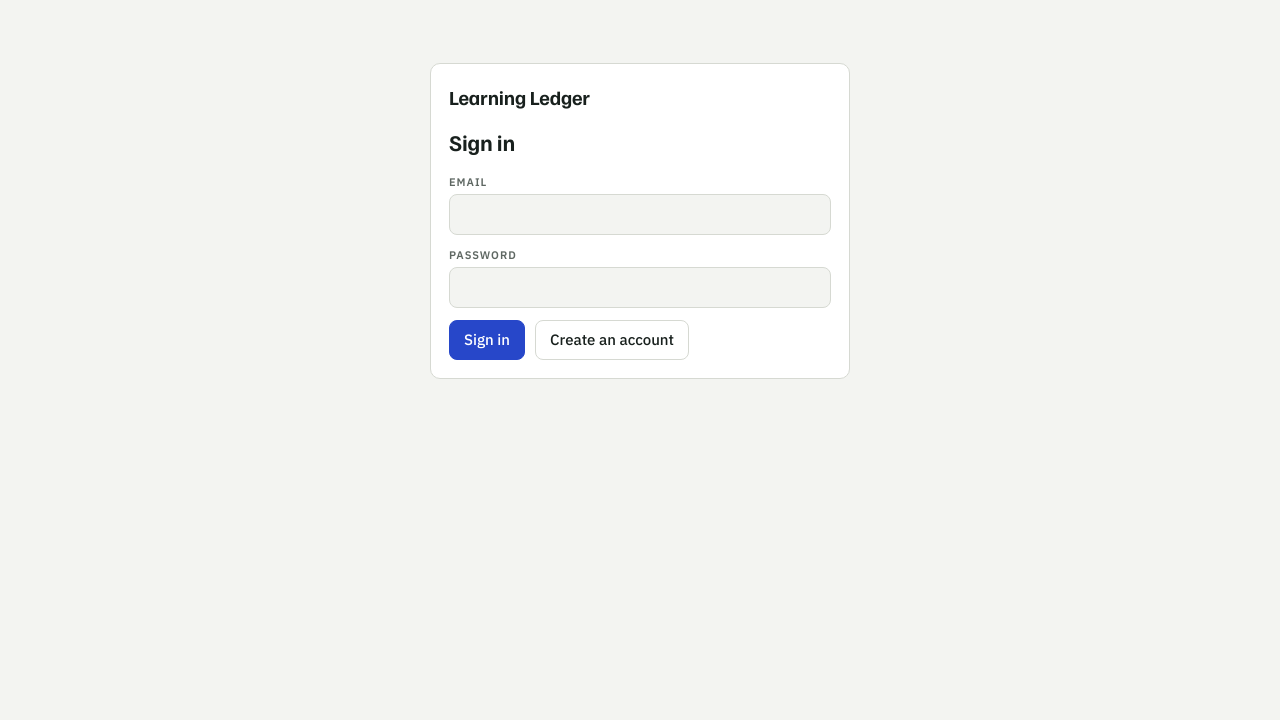
Scenario: Accounts › asks you to sign in, then shows your data
Expected: the heading "Sign in" is shown, [449,128,515,156]
In the field labelled "Email": (640, 215) [449,194,831,235], type "me@example.com"
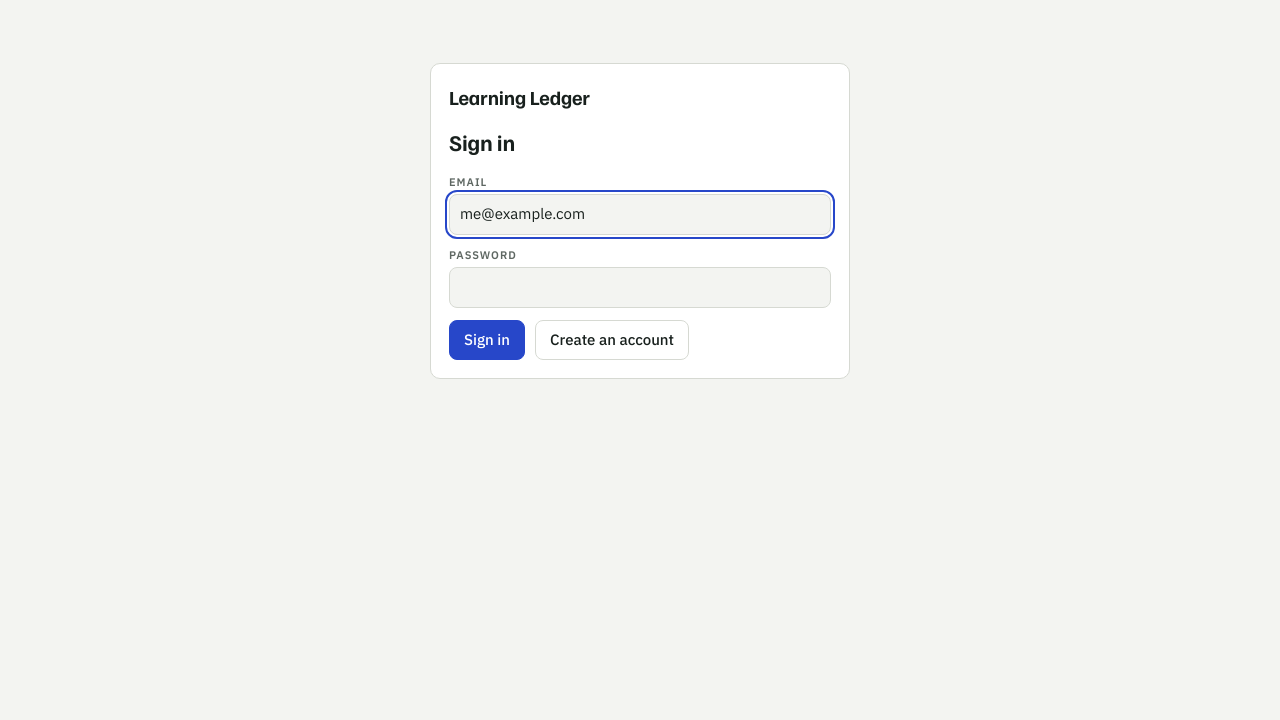
In the password field labelled "Password": (640, 288) [449,267,831,308], type "correct horse battery"
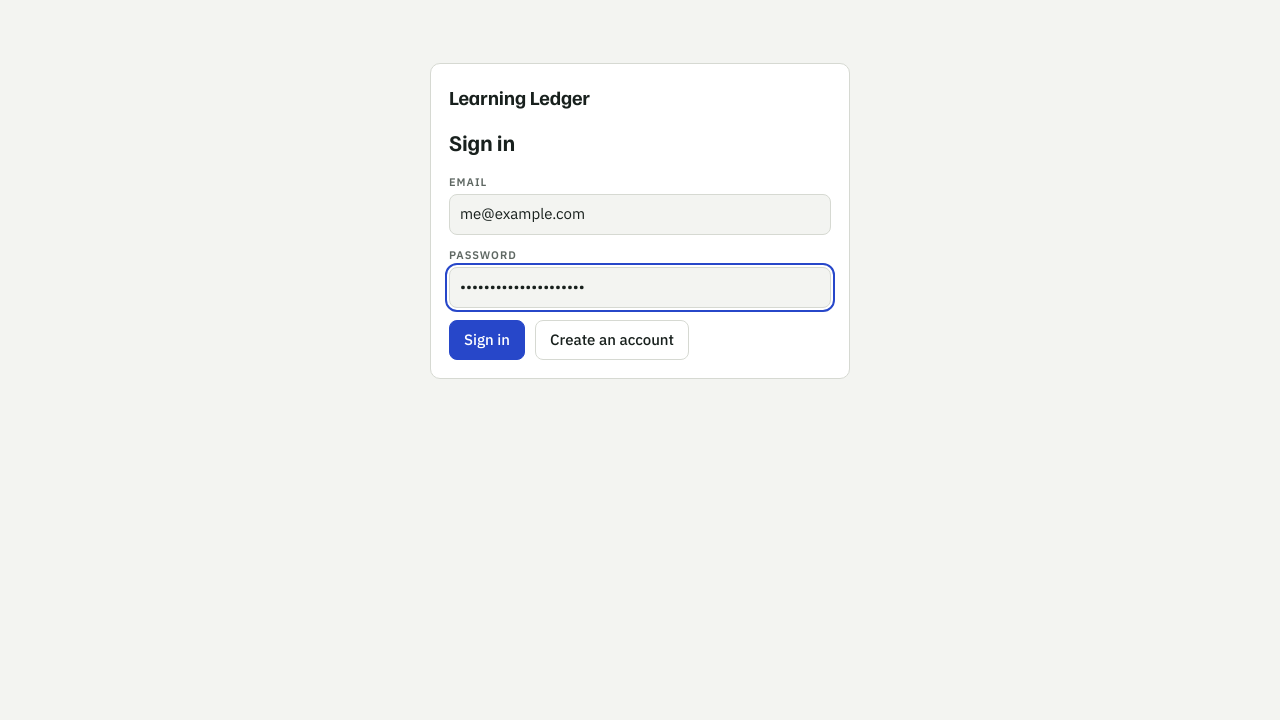
Click the button "Sign in": (487, 340) [449,320,525,360]
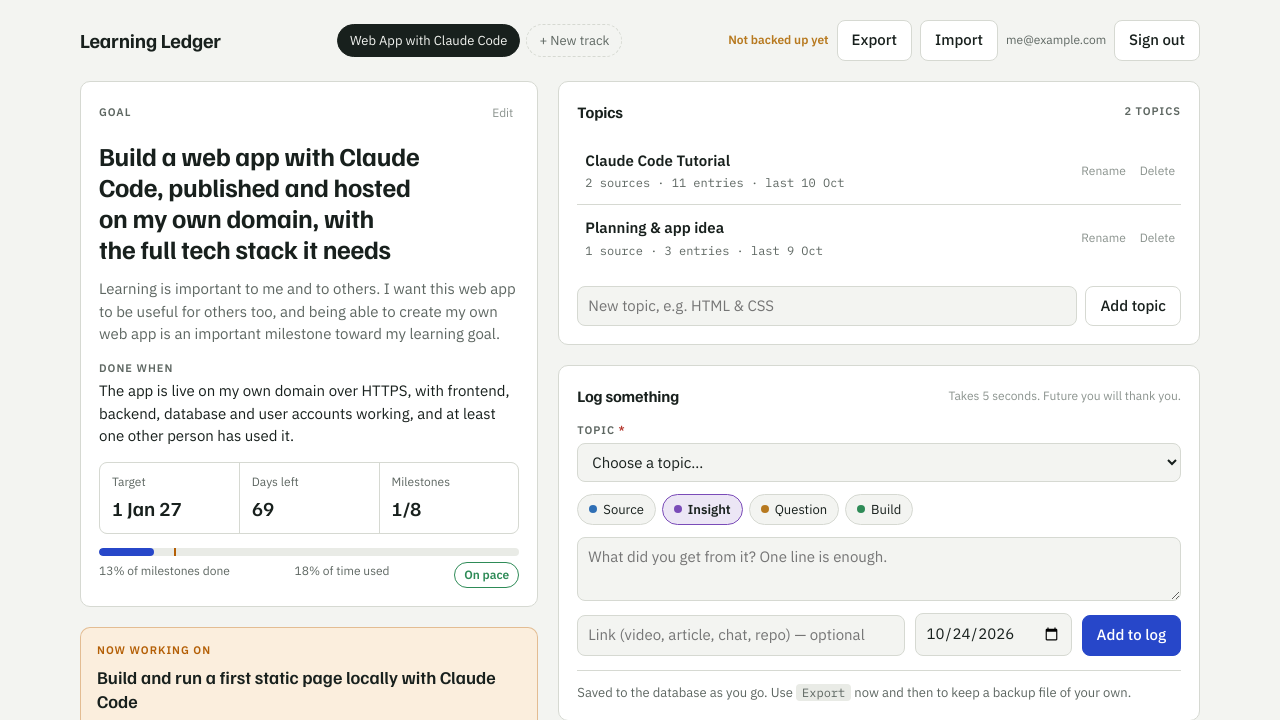
Expected: the heading "Build a web app with Claude Code" is shown, [99,138,419,265]
Expected: the text with id "accountEmail" reads "me@example.com", [1006,32,1106,47]
